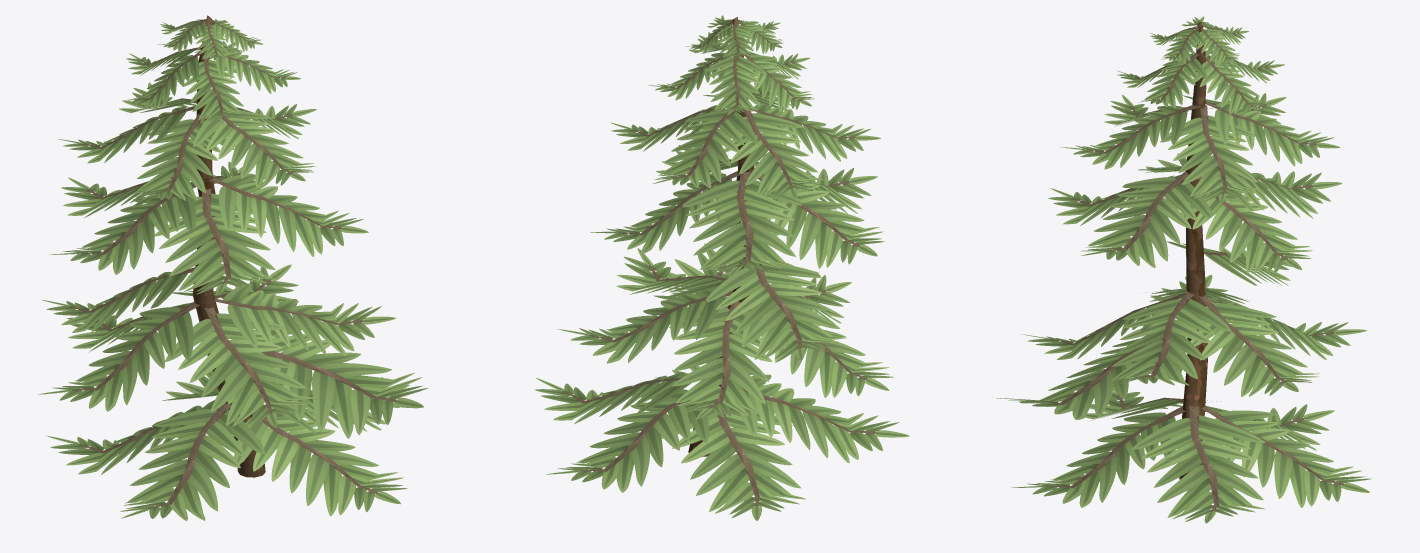
Rendered from Pine_3.gltf.
3 renders of one model, left to right at view 1: azimuth 30°, elevation 25°; view 2: azimuth 150°, elevation 25°; view 3: azimuth 270°, elevation 25°, orthographic. The views are drawn at different scales.
Visible parts, largest first — view 1: Pine_3; view 2: Pine_3; view 3: Pine_3.
Boxes of the visible parts, x1,y1,x2,y2 form: Pine_3: (38, 15, 428, 521); Pine_3: (534, 15, 909, 520); Pine_3: (992, 16, 1371, 523).
Size of the model in its own units: 6.88 by 8.1 by 7.29.
Materials: 2 (2 with a texture image).
